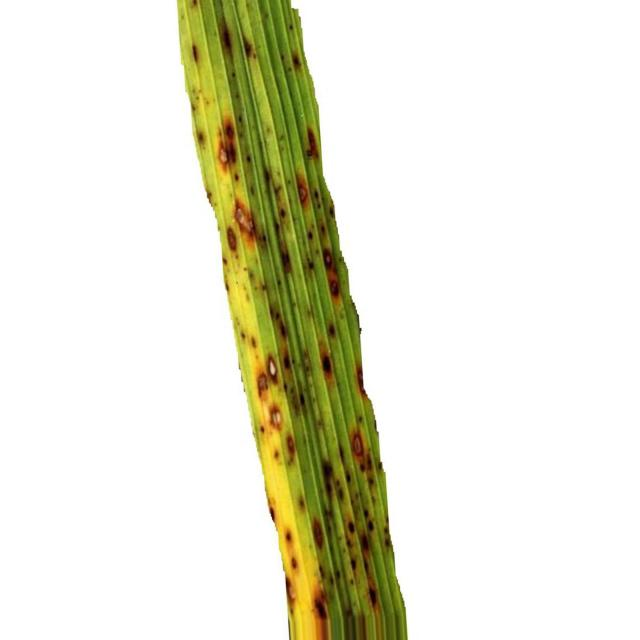Brown_Spot: (322, 249, 340, 299), (220, 111, 236, 164), (234, 199, 255, 235), (295, 171, 310, 209), (314, 590, 329, 626), (306, 128, 319, 158), (312, 518, 324, 549), (318, 459, 332, 485), (239, 36, 252, 59), (351, 434, 364, 457), (220, 29, 232, 53), (276, 319, 288, 340), (280, 528, 294, 546), (281, 248, 291, 272), (270, 301, 284, 318), (364, 509, 375, 530), (226, 228, 236, 251), (268, 356, 278, 379), (356, 459, 375, 471), (258, 372, 268, 394), (271, 408, 282, 428), (295, 495, 308, 511), (291, 51, 301, 71), (271, 180, 285, 194), (195, 129, 205, 148), (271, 445, 281, 462), (322, 355, 331, 373), (286, 435, 295, 453), (369, 588, 378, 606), (360, 534, 369, 551), (255, 424, 265, 439), (264, 165, 272, 183), (299, 390, 306, 409), (269, 501, 275, 522), (284, 350, 290, 368), (306, 259, 315, 270), (192, 45, 198, 61), (278, 206, 286, 218), (368, 474, 376, 486), (349, 558, 356, 571), (338, 490, 345, 502), (245, 150, 252, 162), (345, 471, 351, 484), (291, 558, 298, 569), (348, 521, 355, 532), (329, 324, 335, 336), (232, 172, 240, 181), (248, 182, 254, 192), (308, 231, 312, 239)
